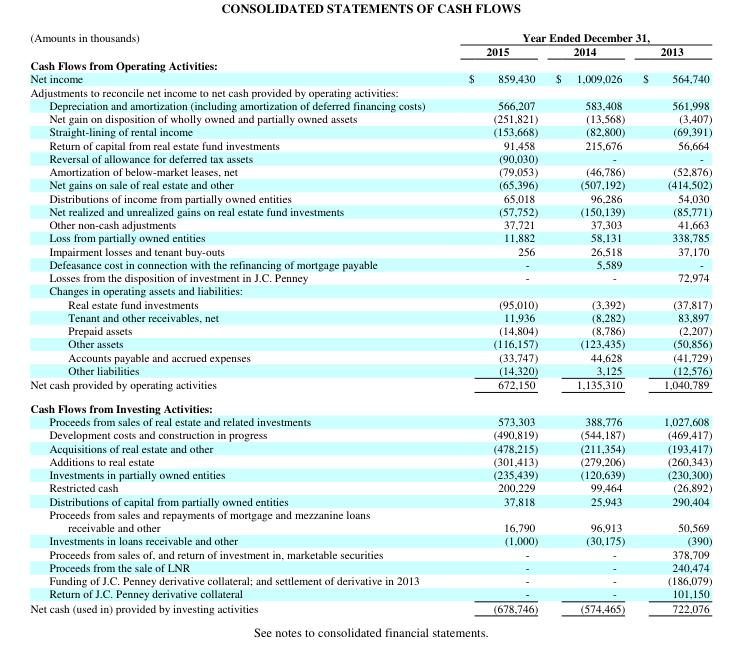table: (29, 28, 711, 614)
table column: (29, 28, 446, 614), (446, 28, 546, 614), (546, 28, 633, 614), (633, 28, 711, 614)
table column header: (29, 28, 711, 58)
table projected row header: (29, 395, 711, 414), (29, 506, 711, 520), (29, 58, 711, 71), (29, 84, 711, 97), (29, 283, 711, 296)
table row: (29, 376, 711, 395), (29, 395, 711, 414), (29, 28, 711, 44), (29, 44, 711, 58), (29, 97, 711, 111), (29, 150, 711, 164), (29, 203, 711, 217), (29, 256, 711, 270), (29, 309, 711, 323), (29, 349, 711, 363), (29, 453, 711, 467), (29, 506, 711, 520), (29, 559, 711, 573), (29, 586, 711, 600), (29, 600, 711, 614), (29, 58, 711, 71), (29, 71, 711, 84), (29, 84, 711, 97), (29, 111, 711, 124), (29, 124, 711, 137), (29, 137, 711, 150), (29, 164, 711, 177), (29, 177, 711, 190), (29, 190, 711, 203), (29, 217, 711, 230), (29, 230, 711, 243), (29, 243, 711, 256), (29, 270, 711, 283), (29, 283, 711, 296), (29, 296, 711, 309), (29, 323, 711, 336), (29, 336, 711, 349), (29, 363, 711, 376), (29, 414, 711, 427), (29, 427, 711, 440), (29, 440, 711, 453), (29, 467, 711, 480), (29, 480, 711, 493), (29, 493, 711, 506), (29, 520, 711, 533), (29, 533, 711, 546), (29, 546, 711, 559), (29, 573, 711, 586)
table spanning cell: (29, 28, 446, 58), (446, 28, 711, 44)
